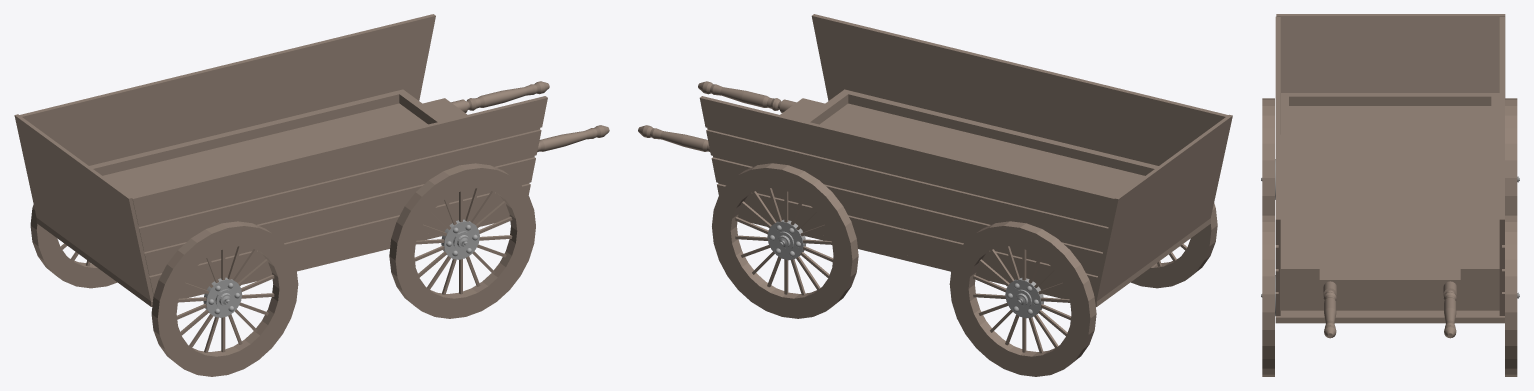
Rendered from cart.fbx.
The picture shows the model from 3 angles, left to right: view 1: azimuth 30°, elevation 25°; view 2: azimuth 150°, elevation 25°; view 3: azimuth 270°, elevation 25°; orthographic projection.
Visible parts, largest first — view 1: group1; view 2: group1; view 3: group1.
Boxes of the visible parts, x1,y1,x2,y2 form: group1: (14,14,609,376); group1: (638,14,1232,376); group1: (1261,14,1519,376).
Bounding box in the file's own units: 17.95 × 6.56 × 7.93.
